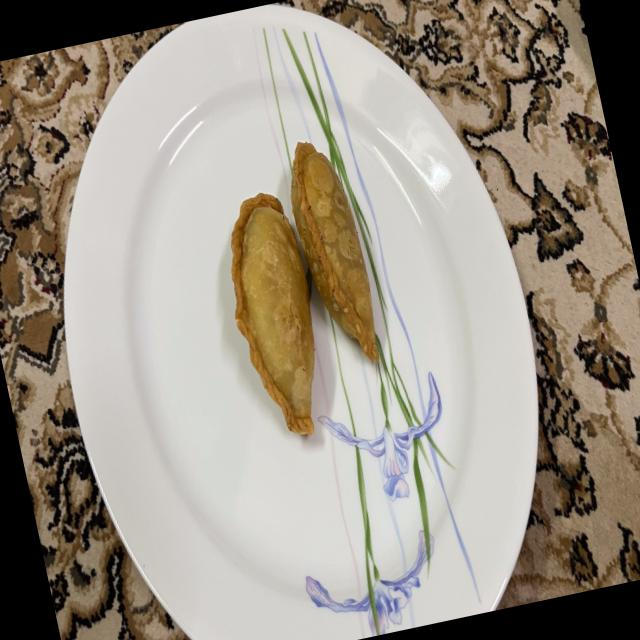karipap: (231, 192, 314, 434), (291, 142, 379, 361)
